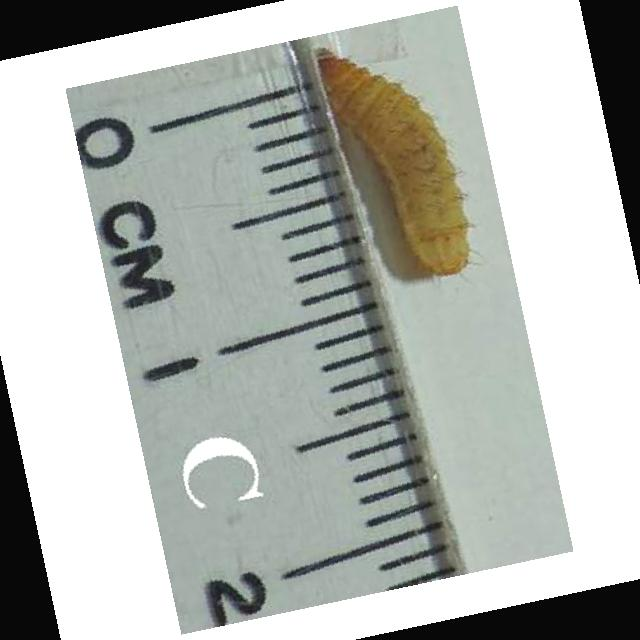Maggot: (312, 45, 479, 278)
